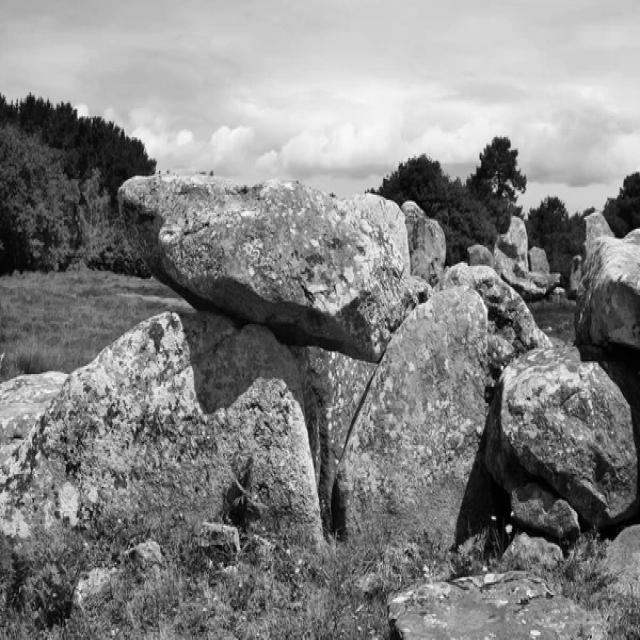Stone: (0, 313, 323, 542), (118, 174, 415, 362), (333, 287, 488, 544), (501, 348, 639, 528), (290, 346, 378, 530), (440, 263, 552, 396), (389, 572, 604, 640), (576, 213, 640, 349), (495, 216, 562, 301), (512, 484, 582, 542), (404, 202, 447, 284)
